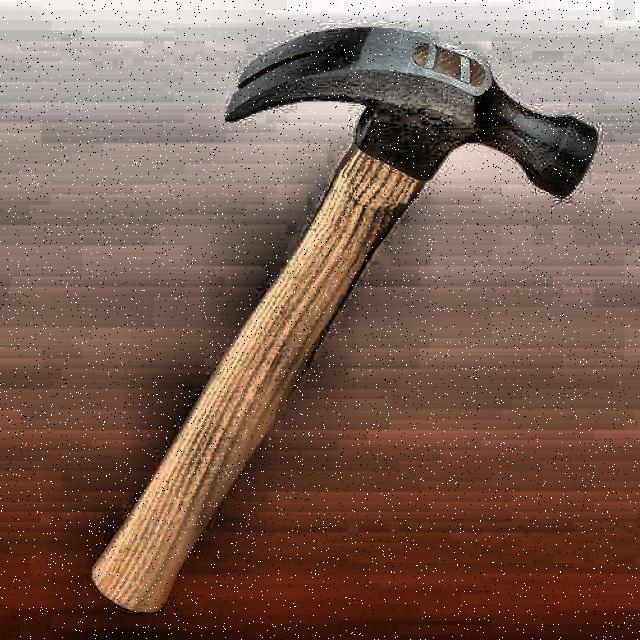hammer: (89, 23, 601, 613)
